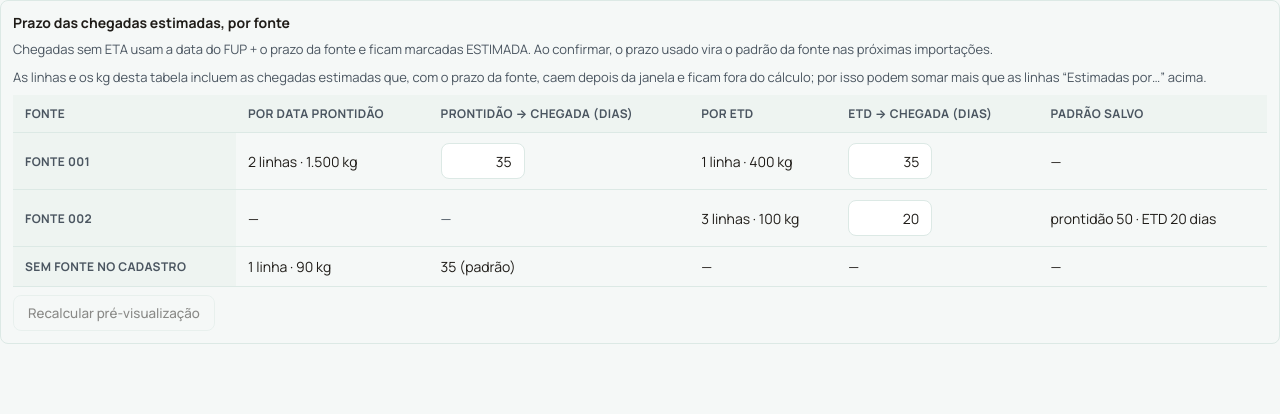
Scenario: ForecastPrazosPorFonte › valor invalido: mensagem no campo (aria-invalid) e Recalcular desabilitado
Clear the field named "Dias do ETD até a chegada - FONTE 001" at (890, 161), box [848,143,932,179]
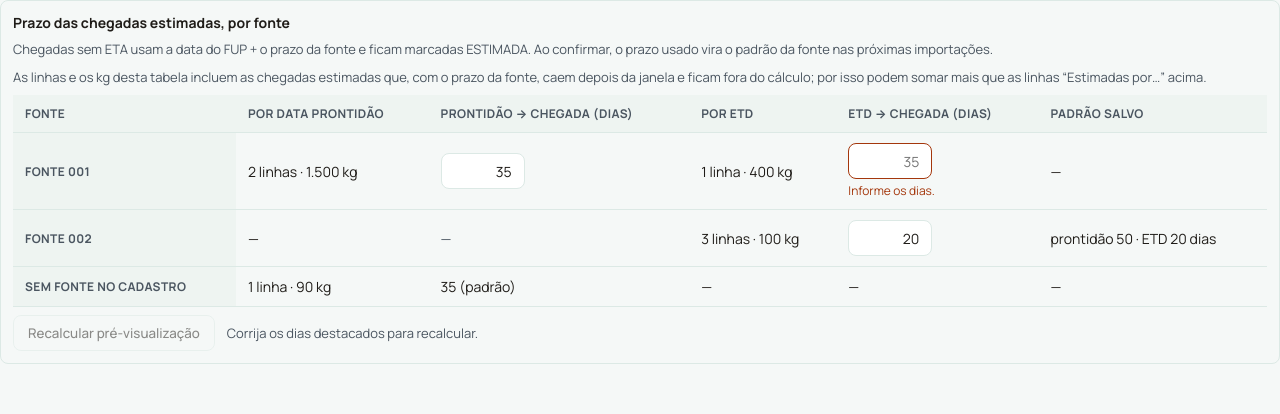
Expected: the button "Recalcular pré-visualização" is disabled, [13,315,215,351]
Expected: the text "Informe os dias." is shown, [848,182,935,199]
Type "-3" into the field named "Dias do ETD até a chegada - FONTE 001" at (890, 161), box [848,143,932,179]
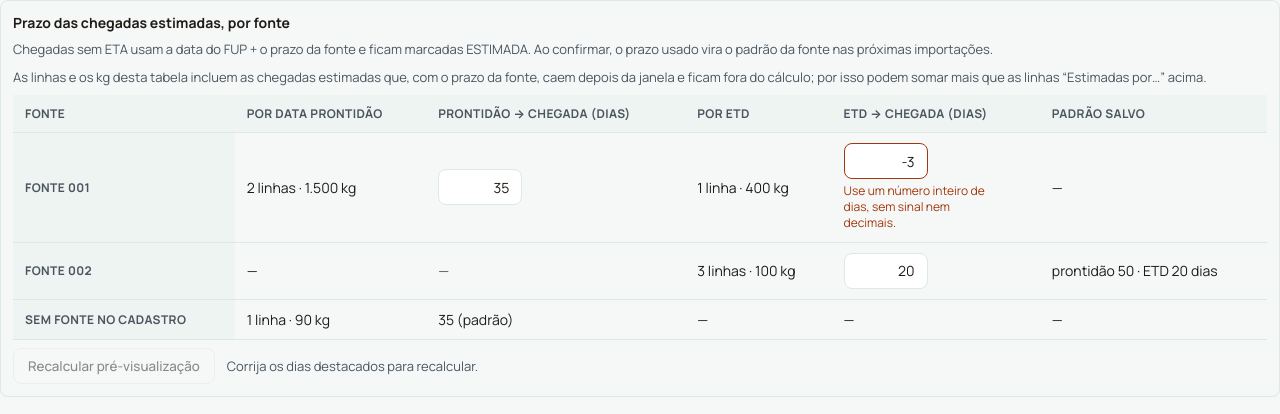
Expected: the button "Recalcular pré-visualização" is disabled, [13,348,215,384]
Expected: the text "Use um número inteiro de dias, sem sinal nem decimais." is shown, [844,183,994,232]
Replace the text in the field named "Dias do ETD até a chegada - FONTE 001" with "12,5" at (886, 161), box [844,143,928,179]
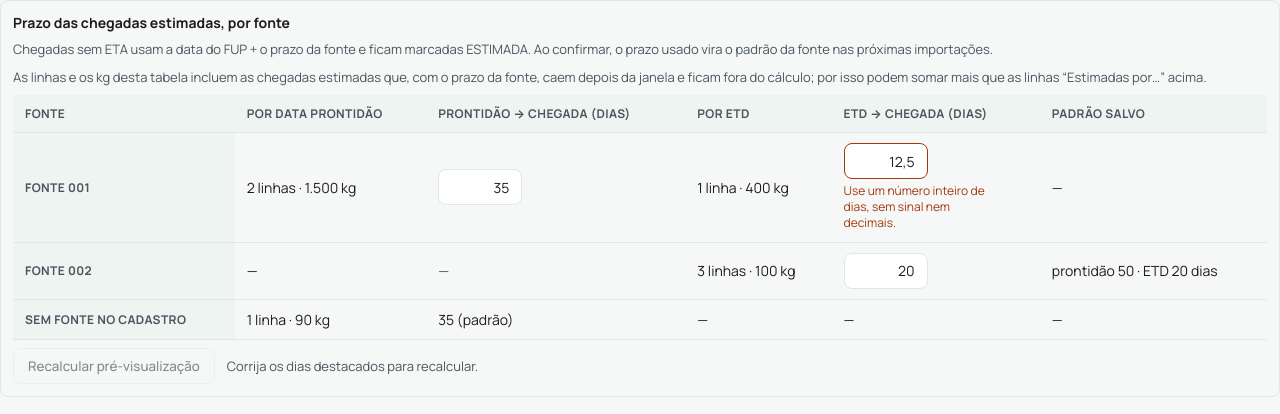
Expected: the button "Recalcular pré-visualização" is disabled, [13,348,215,384]
Expected: the text "Use um número inteiro de dias, sem sinal nem decimais." is shown, [844,183,994,232]
Replace the text in the field named "Dias do ETD até a chegada - FONTE 001" with "366" at (886, 161), box [844,143,928,179]
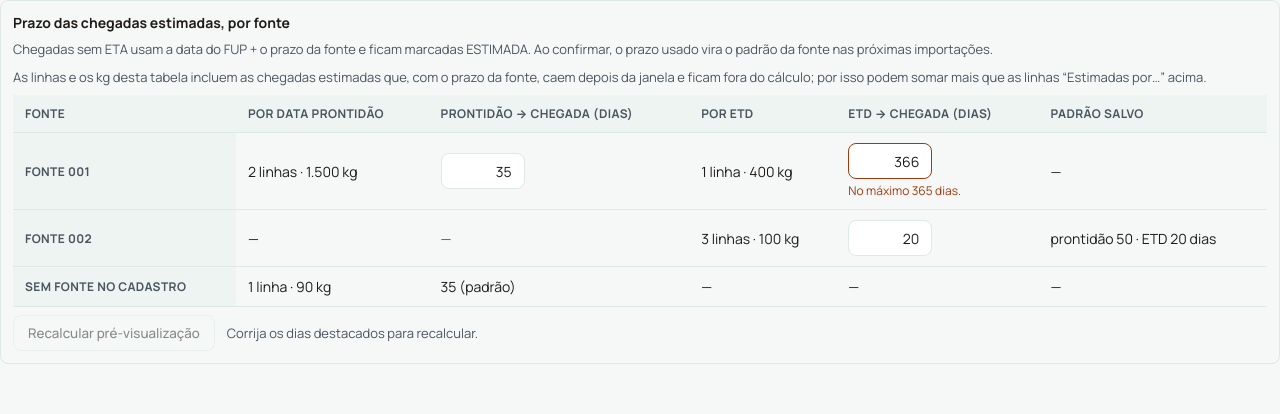
Expected: the button "Recalcular pré-visualização" is disabled, [13,315,215,351]
Expected: the text "Corrija os dias destacados para recalcular." is shown, [227,324,478,342]
Expected: the text "No máximo 365 dias." is shown, [848,182,961,199]
Replace the text in the field named "Dias do ETD até a chegada - FONTE 001" with "0" at (890, 161), box [848,143,932,179]
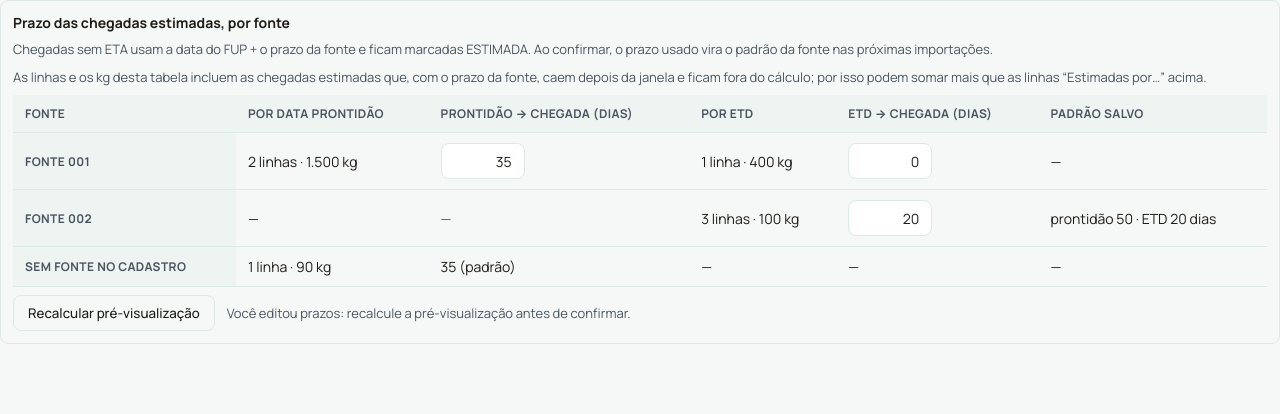
Expected: the button "Recalcular pré-visualização" is enabled, [13,295,215,331]
